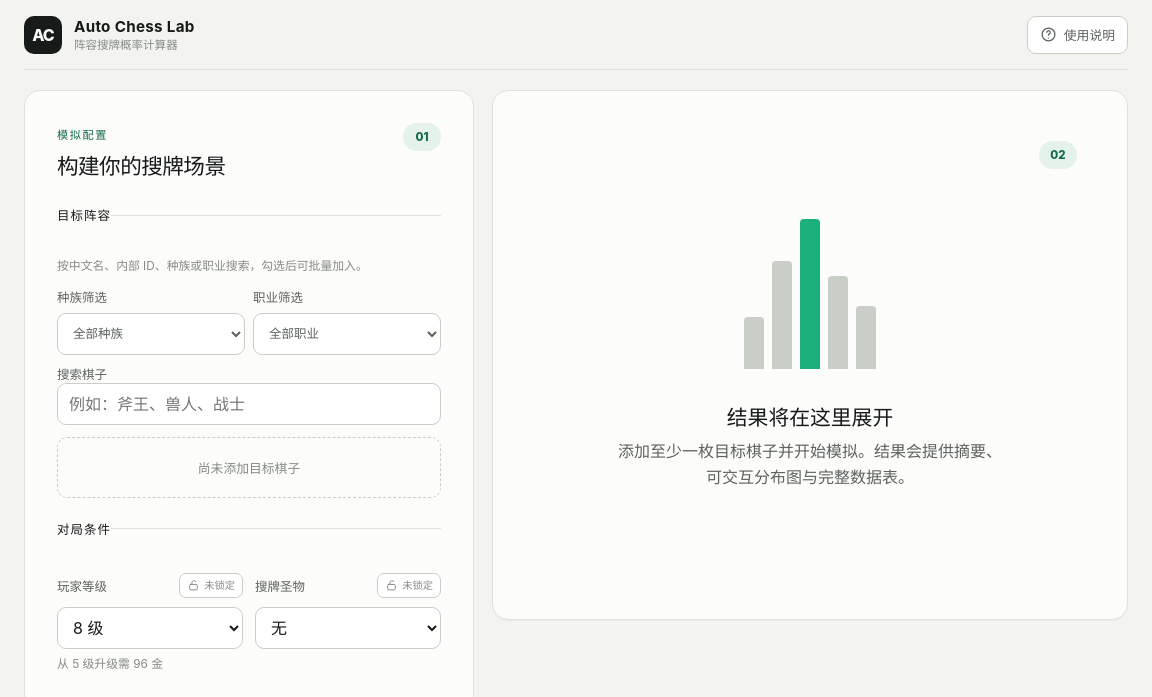
Test: Auto Chess simulator UI › combines race and class filters
Select "兽人" in the dropdown labelled "种族筛选" at (151, 334), box [57, 313, 245, 355]
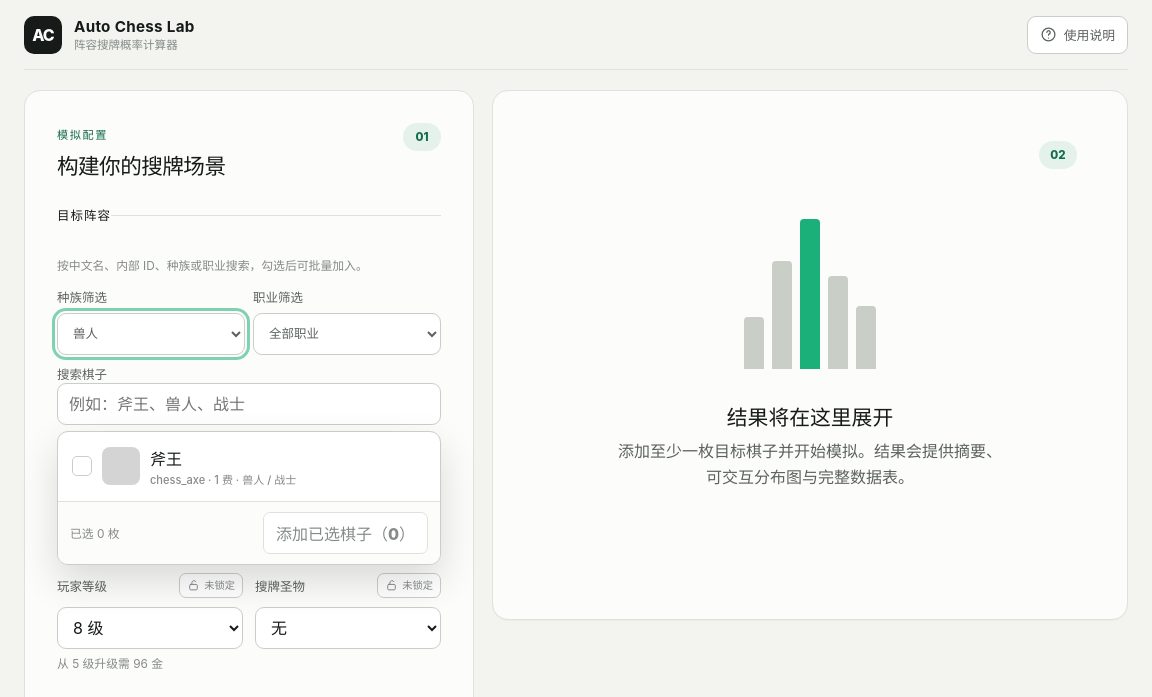
Select "法师" in the dropdown labelled "职业筛选" at (347, 334), box [253, 313, 441, 355]
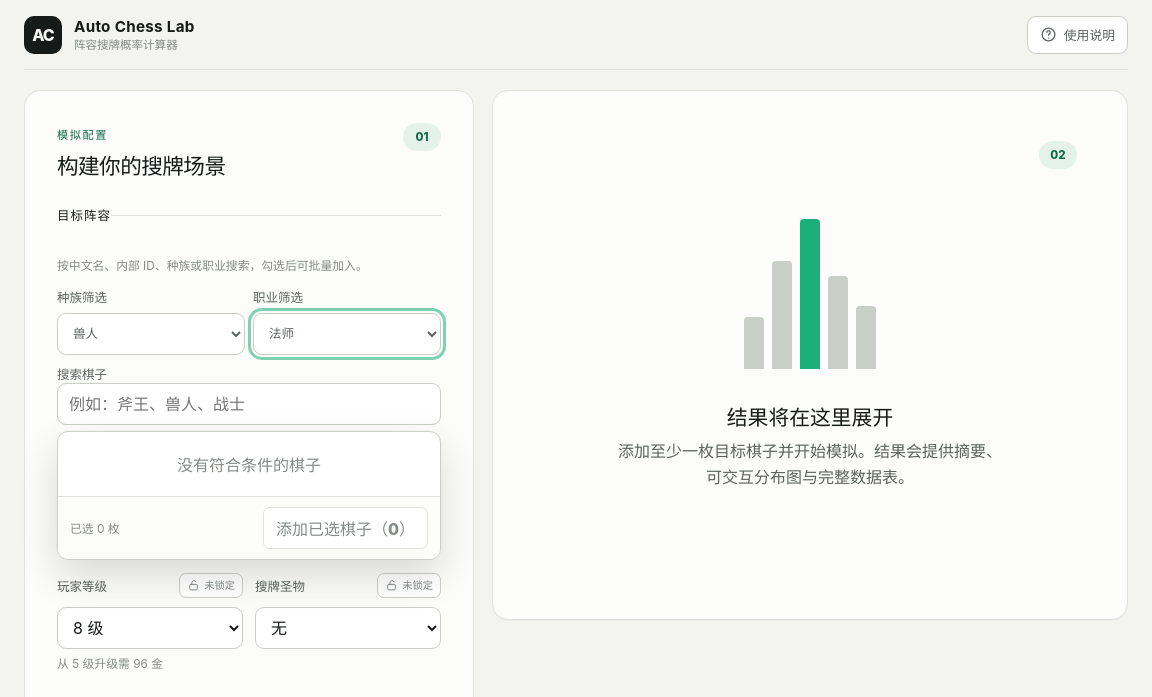
Expected: the text "没有符合条件的棋子" is shown, [177, 455, 321, 475]
